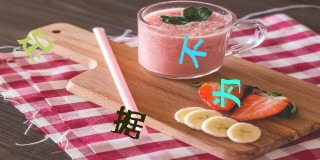不: (178, 35, 207, 69)
为: (212, 77, 241, 108)
据: (111, 106, 146, 139)
足: (17, 27, 52, 63)
